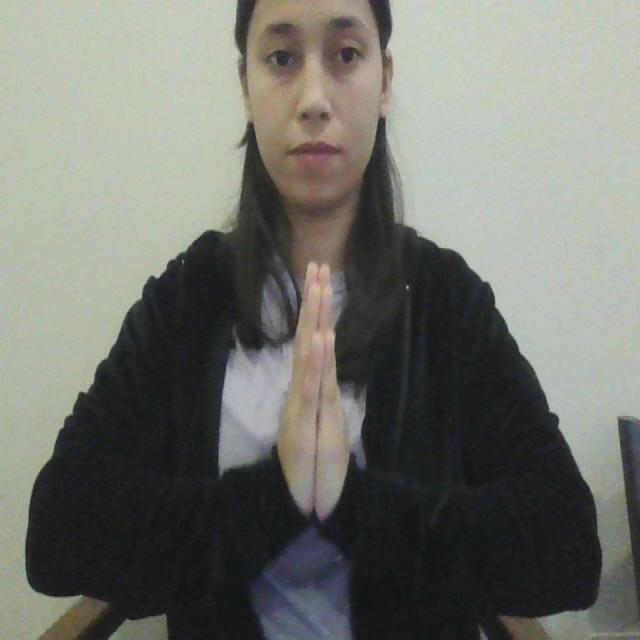Ozur-Dilemek: (274, 244, 359, 546)
